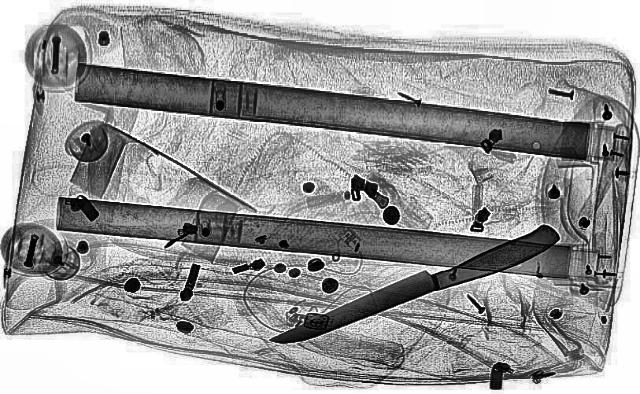Knife: (255, 223, 572, 351)
